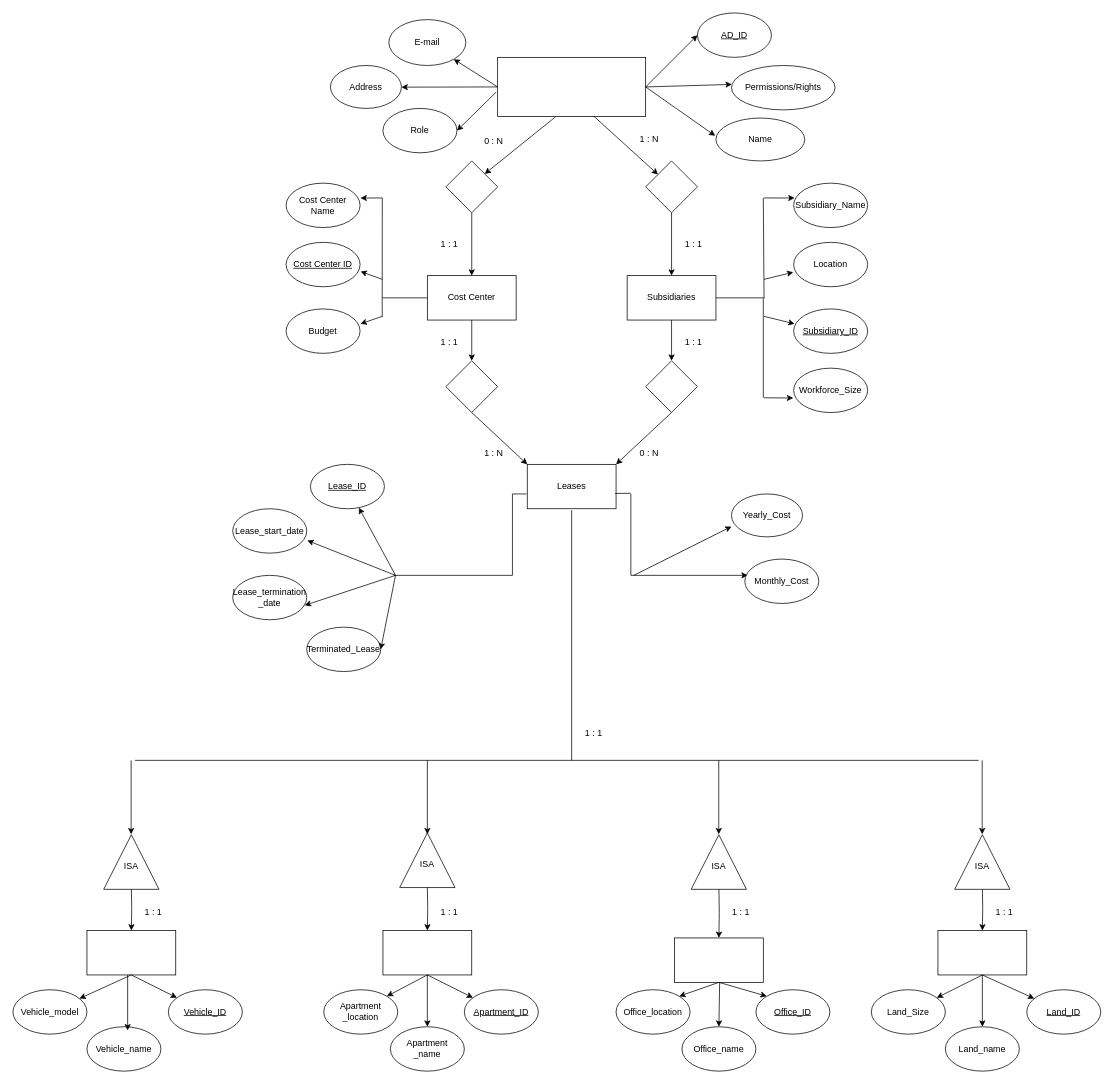
This 1114x1084 diagram has some shape labels left out. The shapes that lost their labels are listed below. From the top down, each one's box as (x1, y1, x2, y2) in pixels, then its label:
(497, 57, 646, 117): Users
(445, 160, 498, 213): Handles
(645, 160, 697, 213): Works for
(445, 360, 498, 413): manages
(645, 360, 697, 413): has
(86, 930, 176, 975): Vehicle
(382, 930, 472, 975): Apartment
(674, 937, 763, 982): Office
(937, 930, 1027, 975): Land
